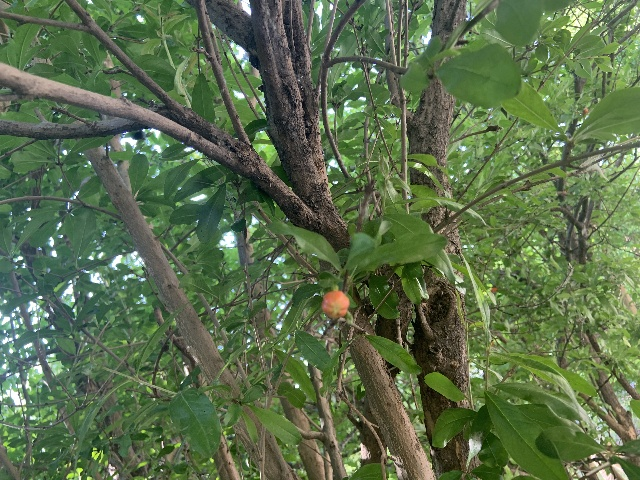bud: (321, 290, 349, 317)
